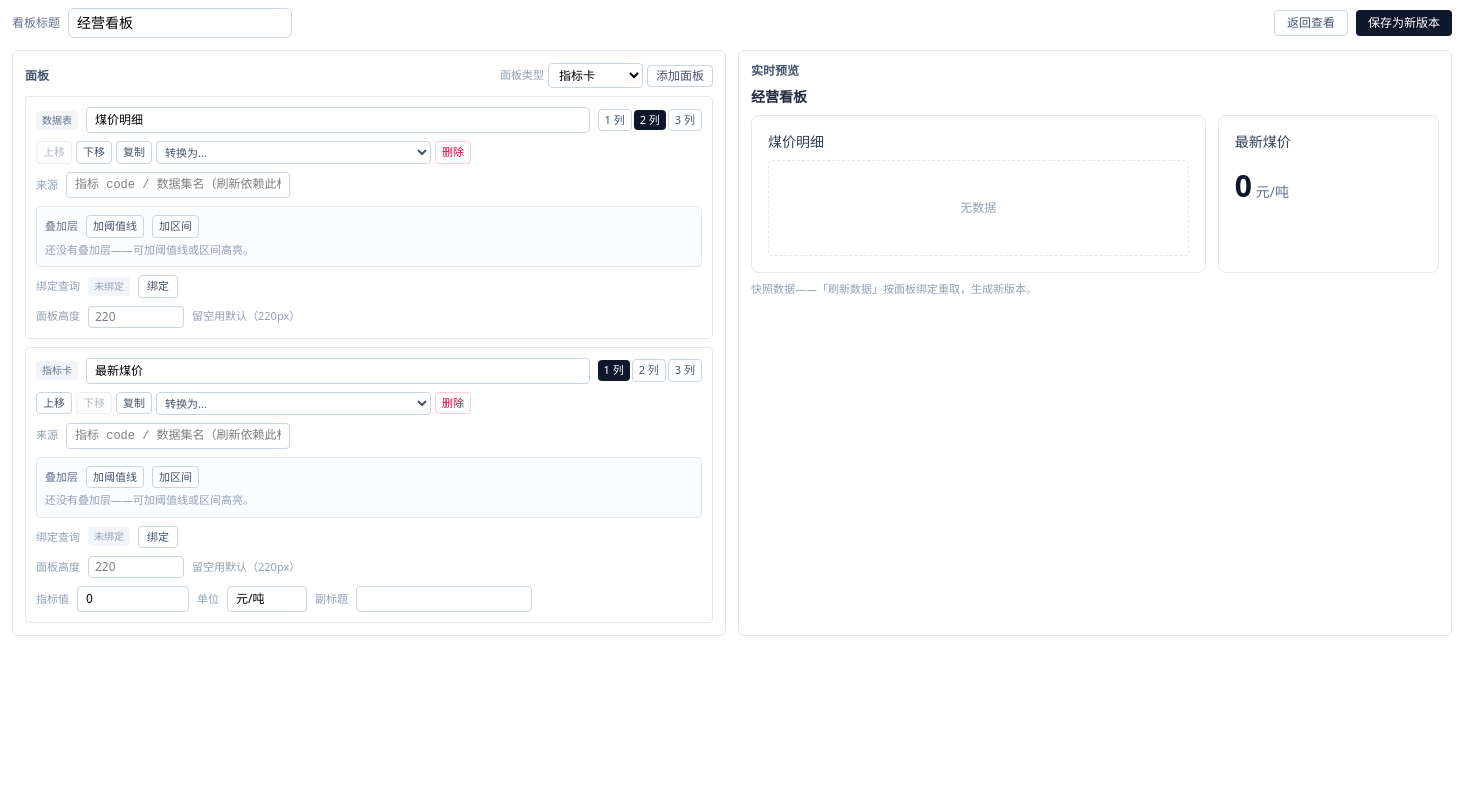
Test: DashboardEditor 绑定查询表单（wire-panel-query-binding 任务 2.1/2.2） › 数据集列表加载失败如实呈现（可重试）
Step 1. Click the button with test id "editor-query-bind" below "数据表" → click(158, 286), box [138,275,178,298]
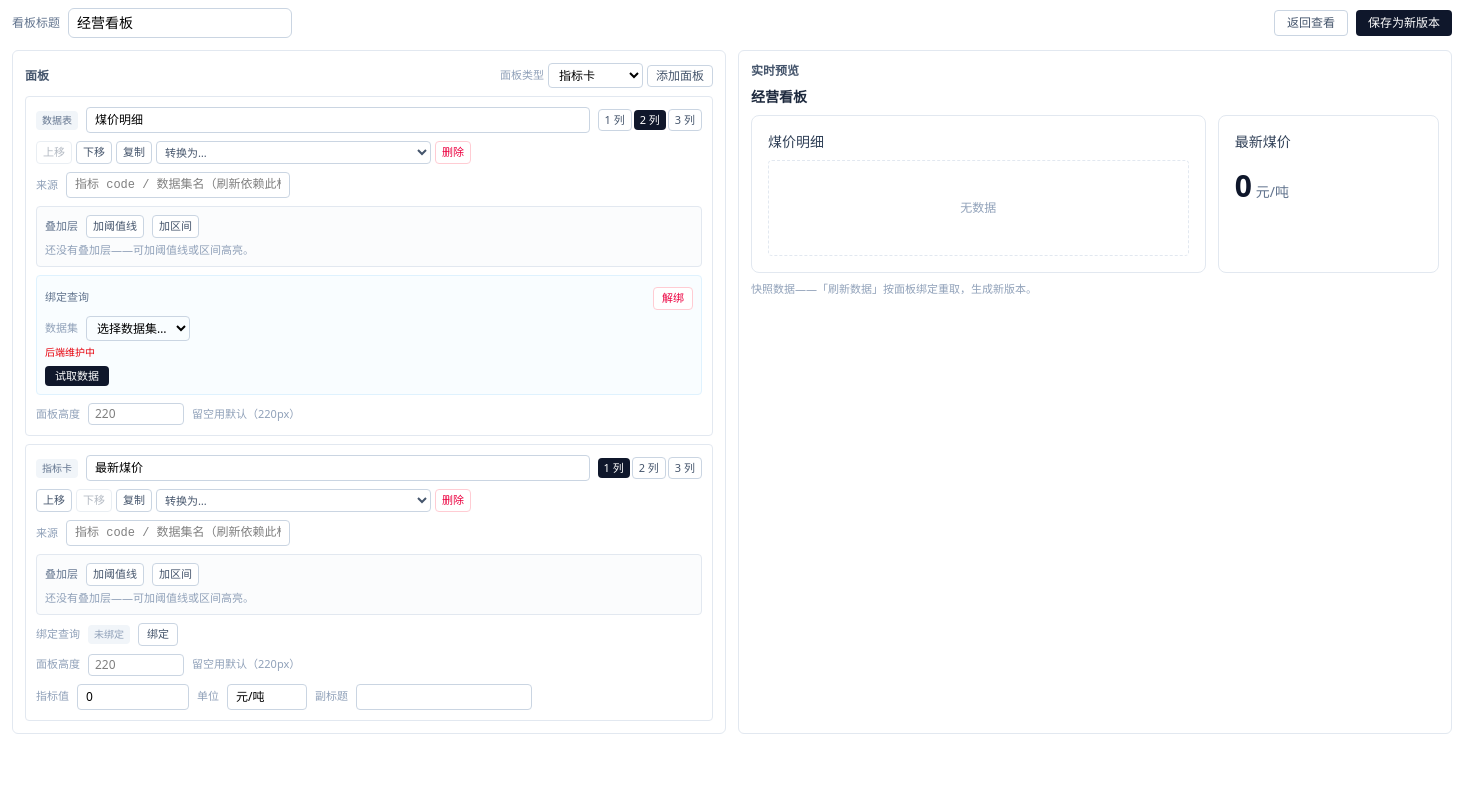
Expected: the text with test id "editor-query-datasets-error" reads "后端维护中", [45,344,95,358]
